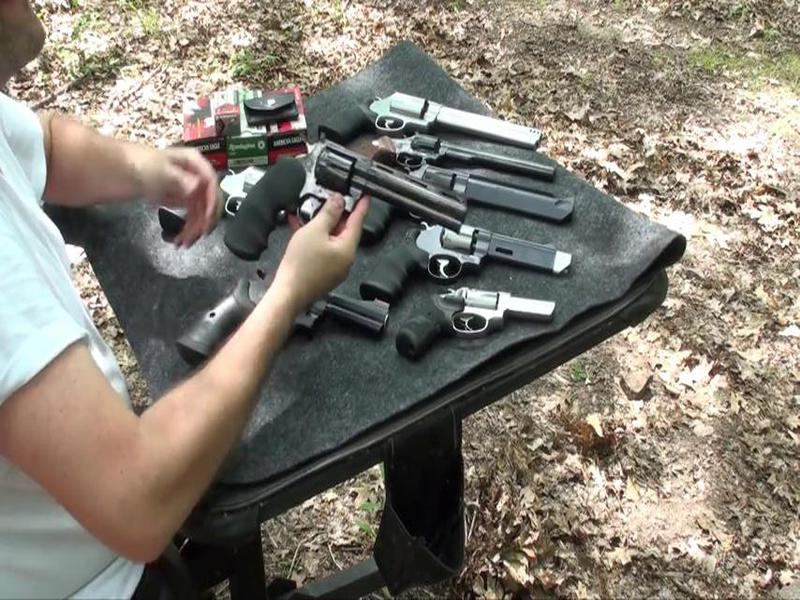Revolver: (215, 129, 477, 279)
